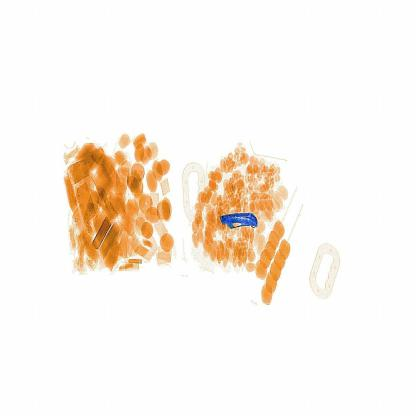knife: (210, 206, 265, 236)
